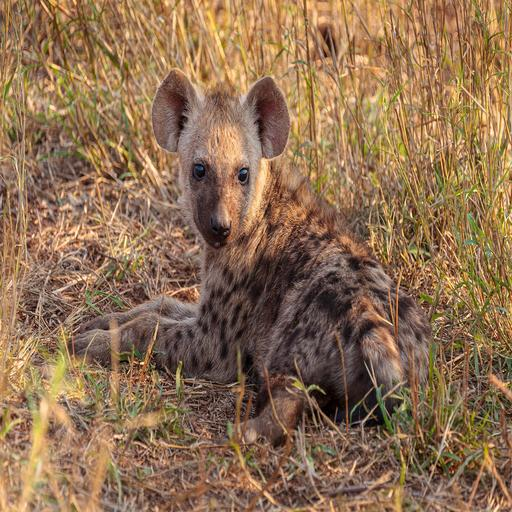Hyena: (65, 71, 430, 442)
